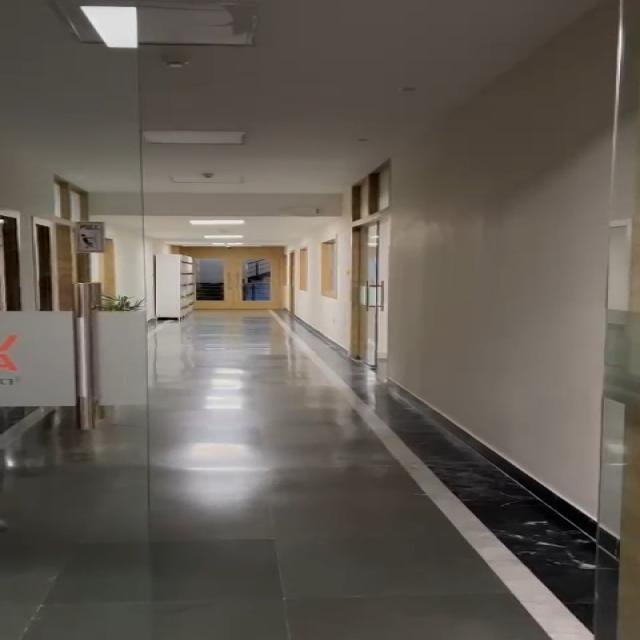door: (0, 109, 131, 447), (326, 168, 413, 370), (160, 233, 306, 323)
floor: (139, 335, 503, 640)
